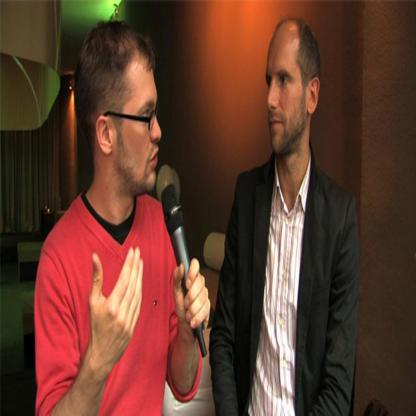face: (118, 62, 162, 190), (266, 33, 303, 161)
